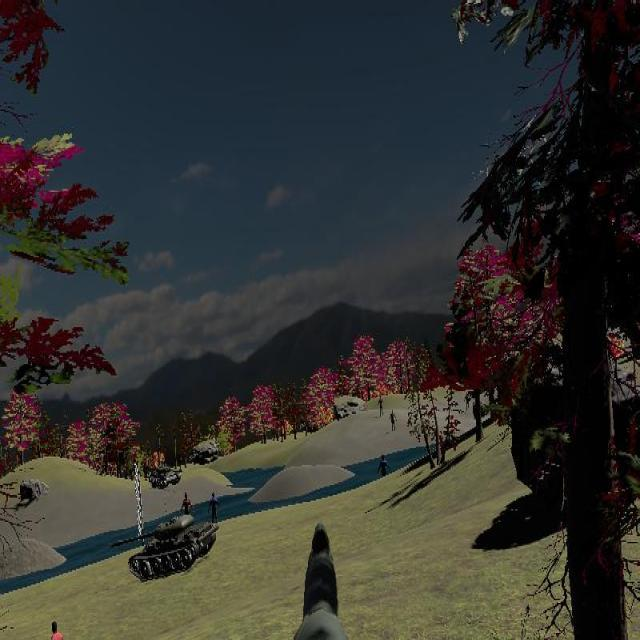Human: (47, 620, 68, 640)
Tank: (110, 512, 218, 583)
